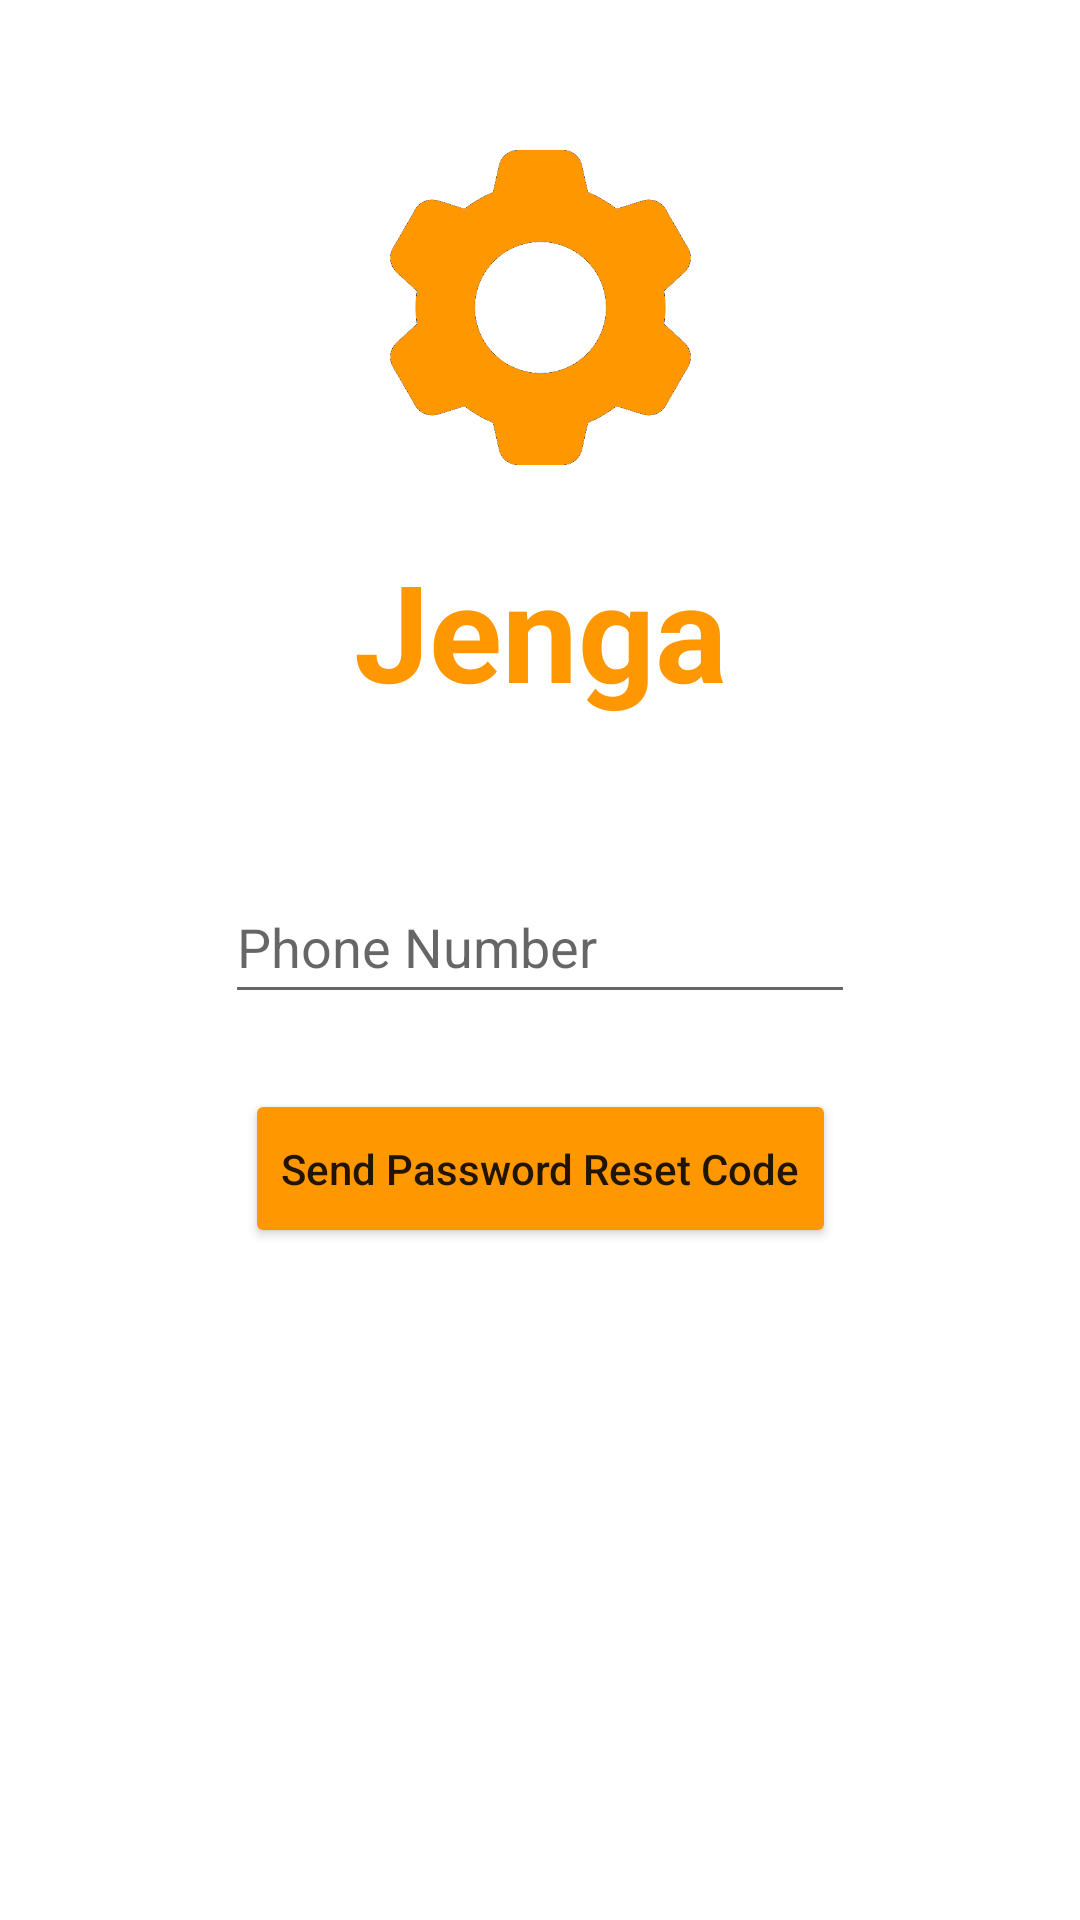

Locate icon controls on the screen. Image size 1080px x 1920px, boxes as box(x1, y1, x2, y2).
cogwheel: box(390, 150, 691, 465)
